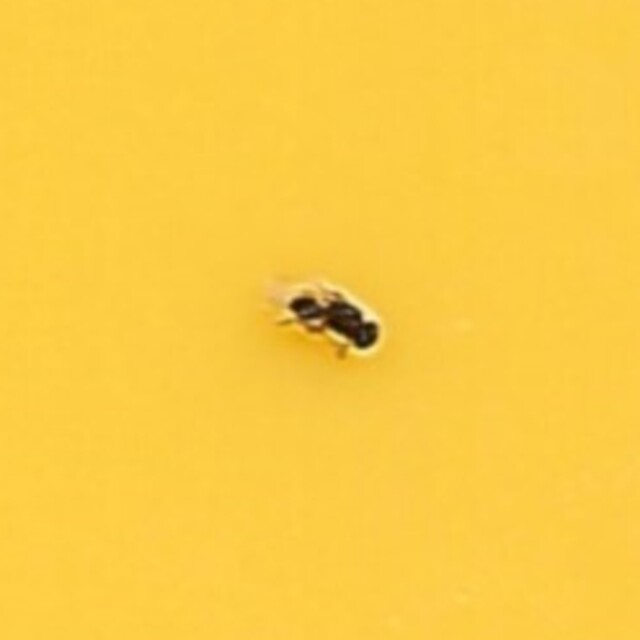Hymenoptera: (258, 269, 382, 371)
